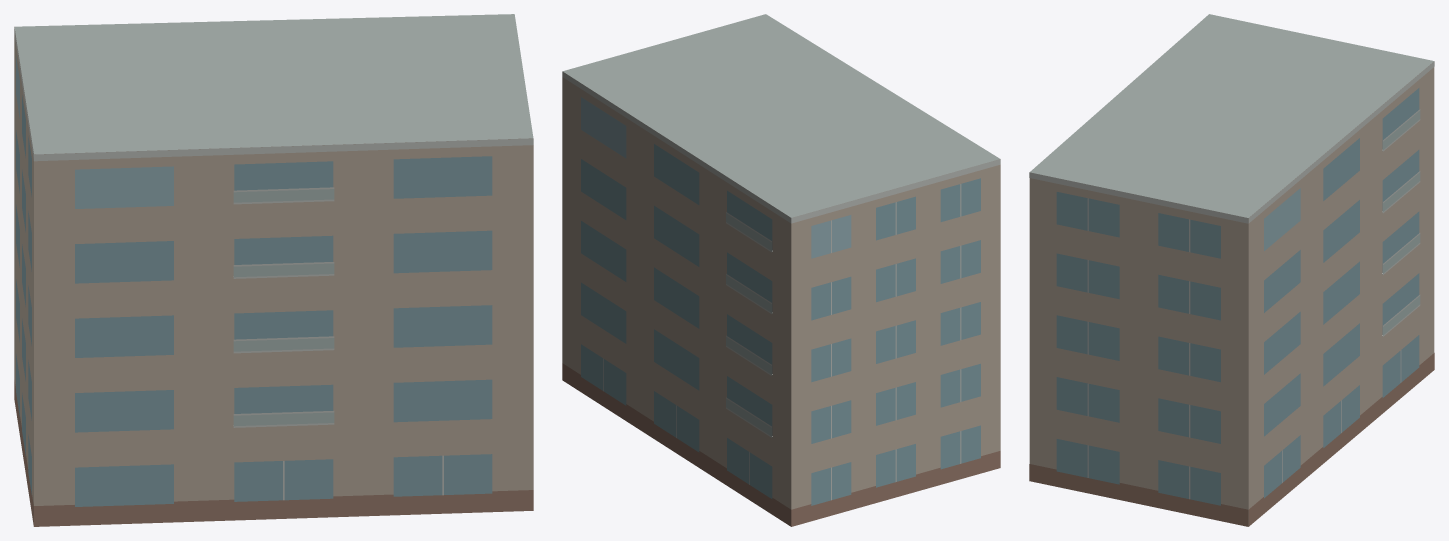
The model's file is survey-upis-32883555.glb.
3 views of the same model, side by side, from view 1: azimuth 30°, elevation 25°; view 2: azimuth 150°, elevation 25°; view 3: azimuth 270°, elevation 25° (orthographic). The views are drawn at different scales.
Visible parts, largest first — view 1: survey-upis-32883555.tmp; view 2: survey-upis-32883555.tmp; view 3: survey-upis-32883555.tmp.
Boxes of the visible parts, bbox=[...] form: survey-upis-32883555.tmp: bbox=[14, 14, 533, 526]; survey-upis-32883555.tmp: bbox=[562, 14, 1000, 526]; survey-upis-32883555.tmp: bbox=[1029, 14, 1434, 526].
Bounding box in the file's own units: 18.86 × 13.3 × 15.82.
